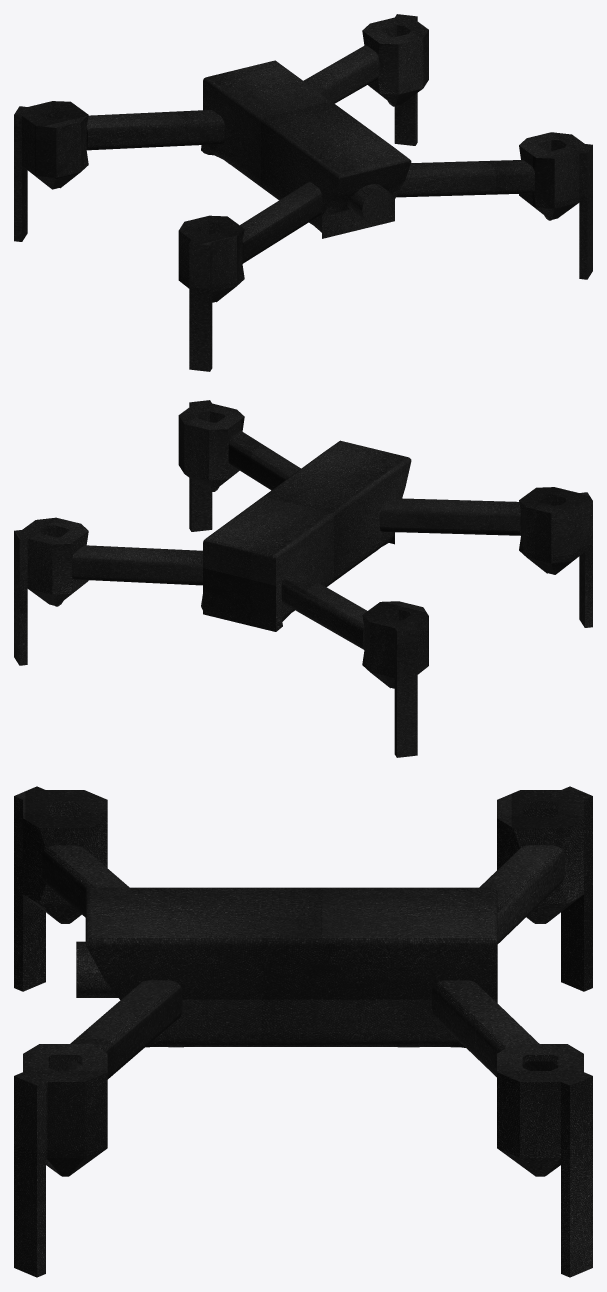
The model's file is Dron.obj.
3 views of the same model, one above another, from view 1: azimuth 30°, elevation 25°; view 2: azimuth 150°, elevation 25°; view 3: azimuth 270°, elevation 25° (orthographic). The views are drawn at different scales.
Parts seen in each view (by area): view 1: polySurface63 polySurface58; view 2: polySurface63 polySurface58; view 3: polySurface63 polySurface58.
Boxes of the visible parts, x1,y1,x2,y2 form: polySurface63 polySurface58: [14, 14, 592, 371]; polySurface63 polySurface58: [14, 400, 592, 757]; polySurface63 polySurface58: [14, 786, 592, 1277].
Bounding box in the file's own units: 0.1548 × 0.052 × 0.1266.
3 materials, 3 textured.
